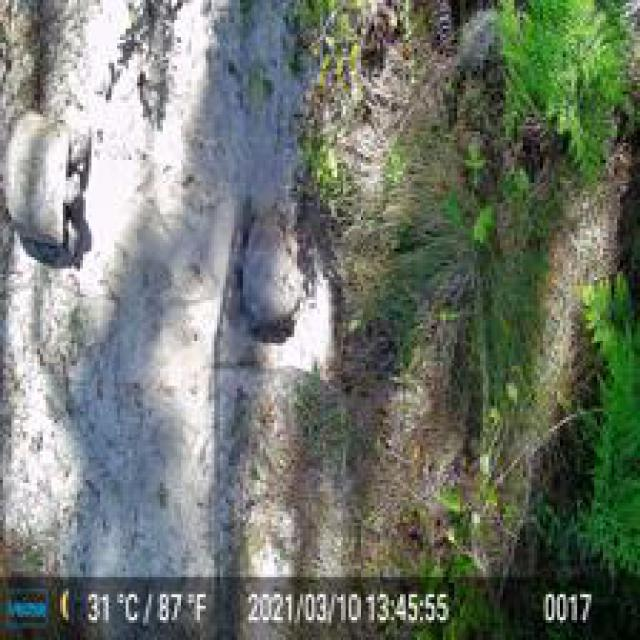tortoise: (0, 102, 92, 269), (234, 212, 306, 337)
